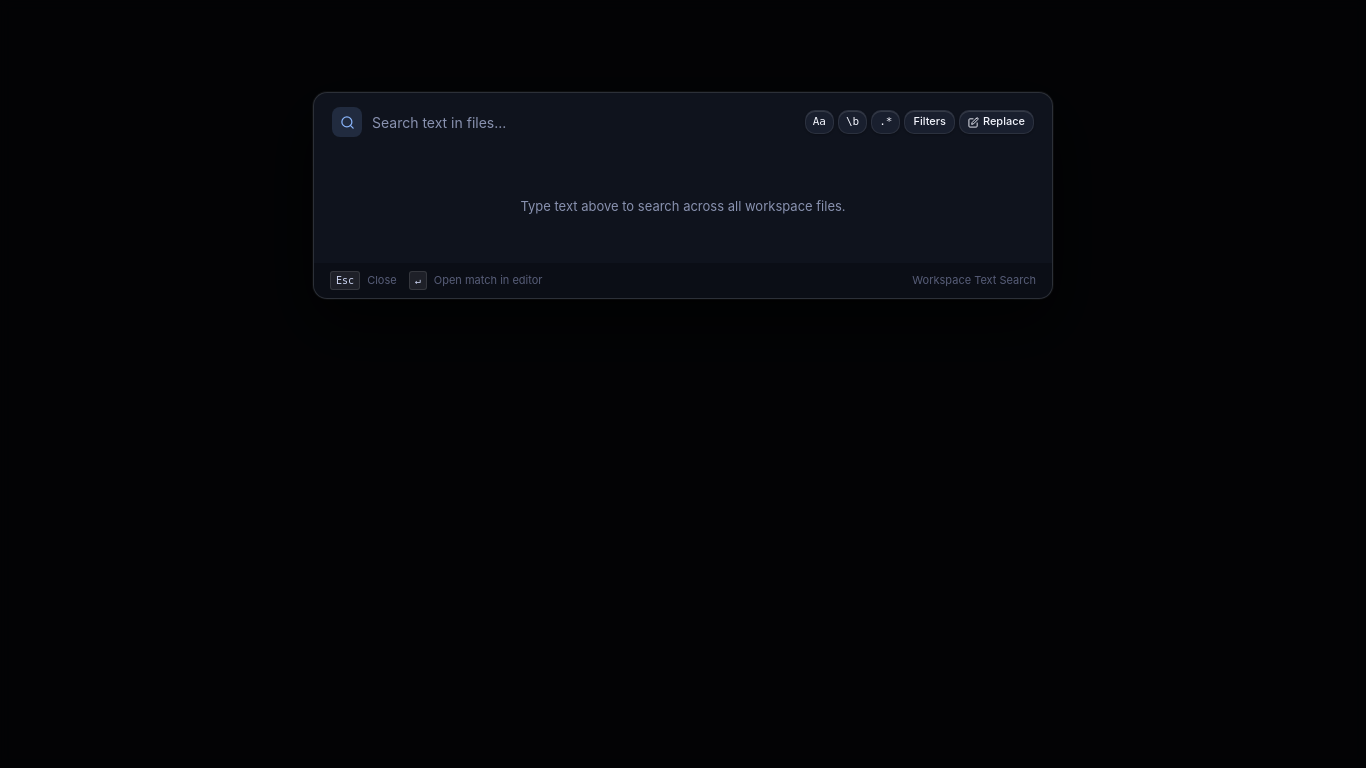
Test: WorkspaceSearchModal — M50 selection, snapshot & diff › disables and unchecks the snapshot toggle for a non-owner editor
The width and height of the screenshot is (1366, 768).
Type "hello" into the field with placeholder "Search text in files...". click: (583, 122)
box: [372,112,795,133]
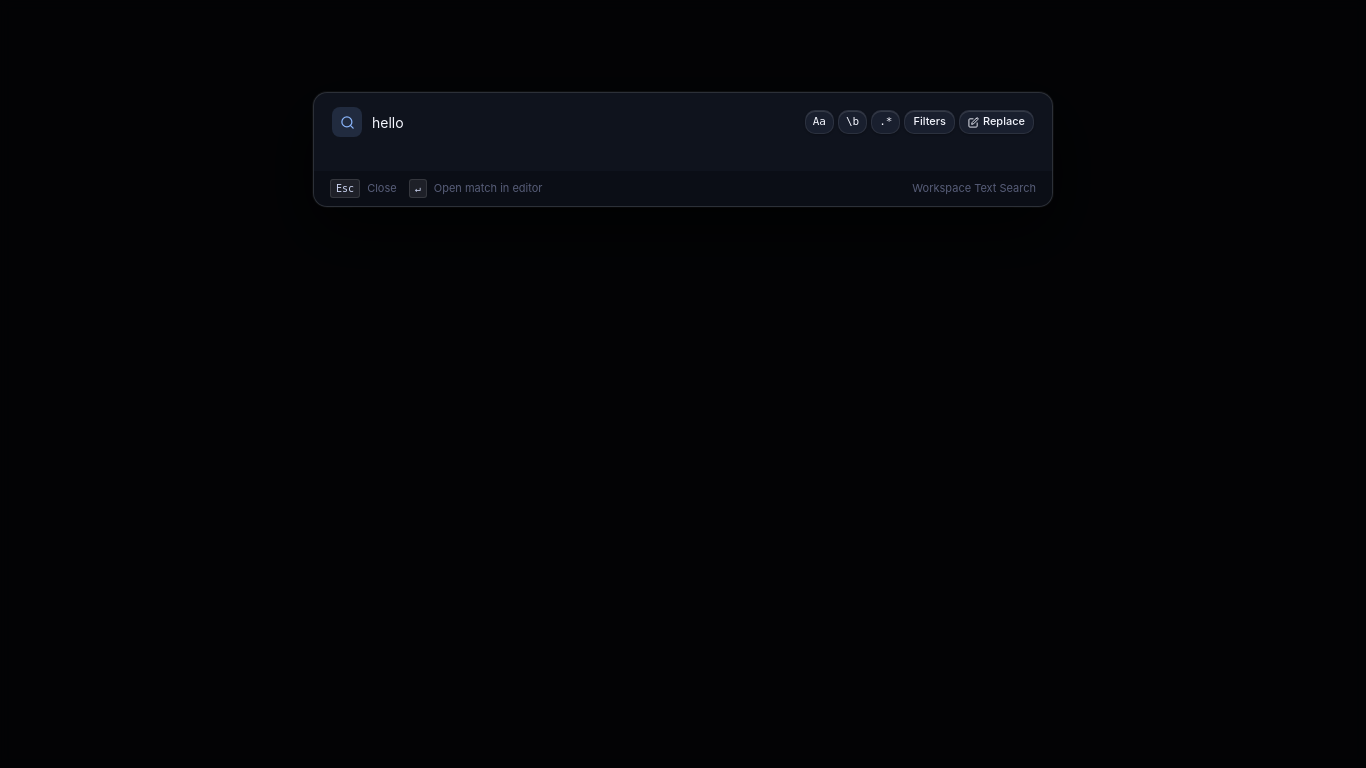
Click the button titled "Toggle Replace". click: (996, 122)
box: [959,110,1034,134]
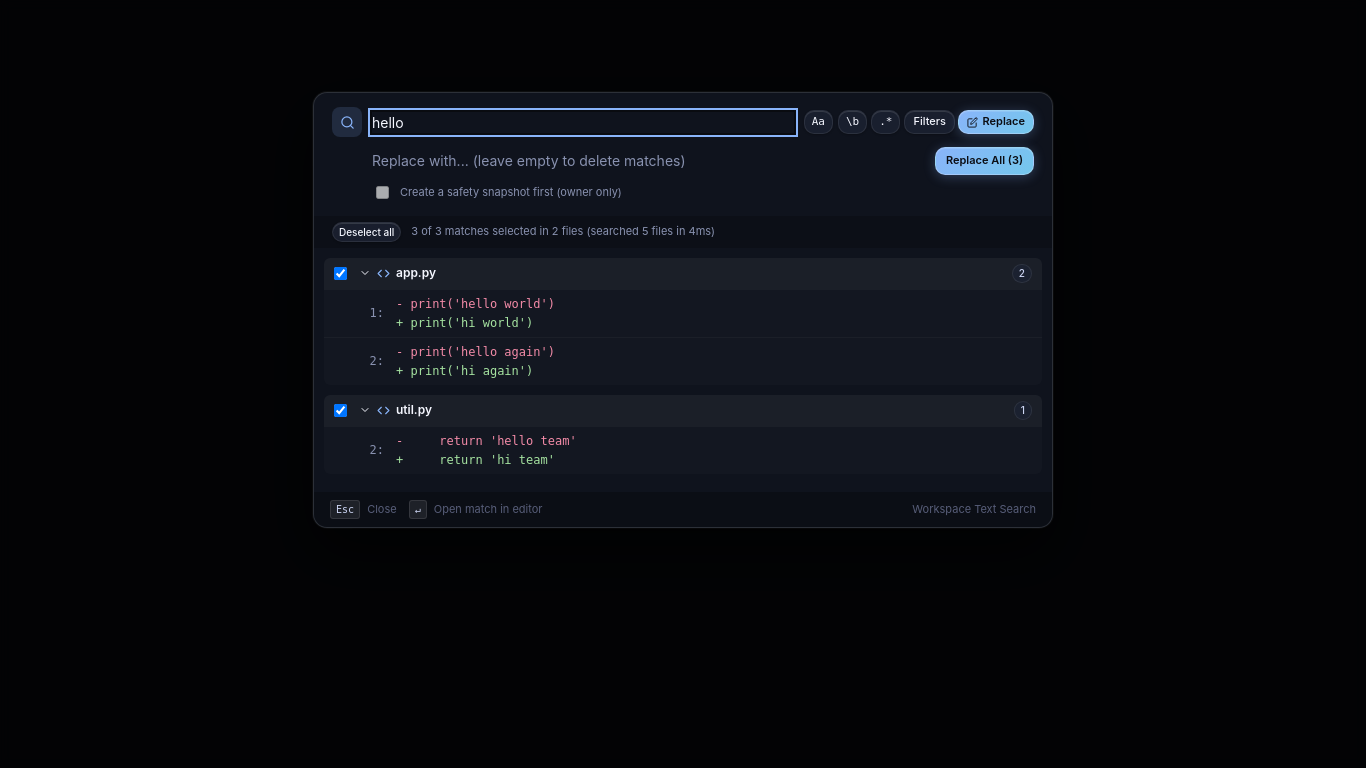
Expected: the text "3 of 3 matches selected in 2 files (searched 5 files in 4ms)" is shown, [411,223,715,240]
Expected: the checkbox labelled "Create a safety snapshot first (owner only)" is not checked, [376,186,389,198]
Expected: the checkbox labelled "Create a safety snapshot first (owner only)" is disabled, [376,186,389,198]
